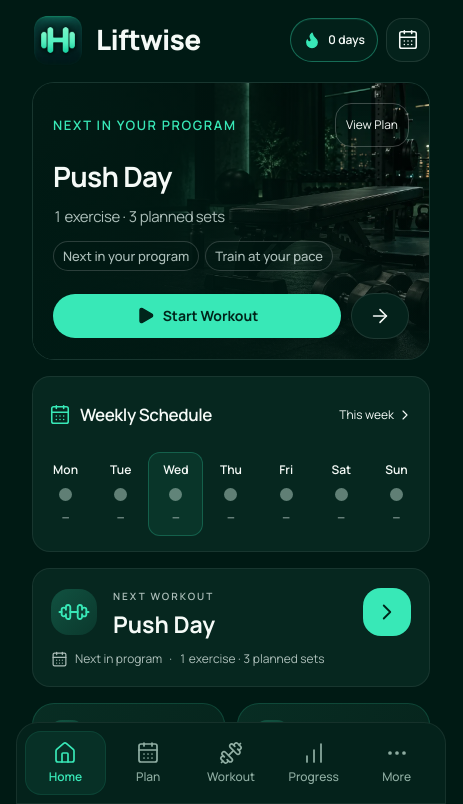
it: Home interactions › shows a readable start failure and allows retry without losing the plan
Check: the navigation bar named "primary" is shown, box [16,722,446,803]
Click the button "Start Workout".
click(197, 316)  # box [53,294,341,338]
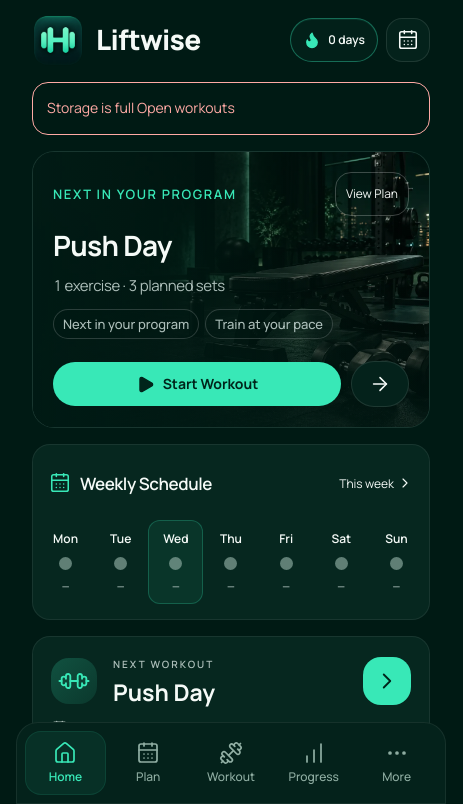
Check: the button "Start Workout" is enabled, box [53,362,341,406]
Check: the message shows "Storage is full", box [47,98,134,117]
